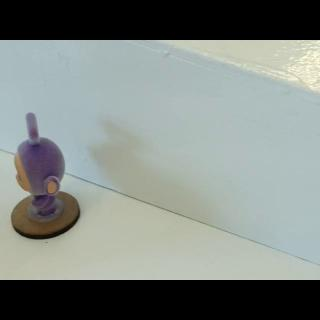teletubby: (14, 113, 64, 222)
